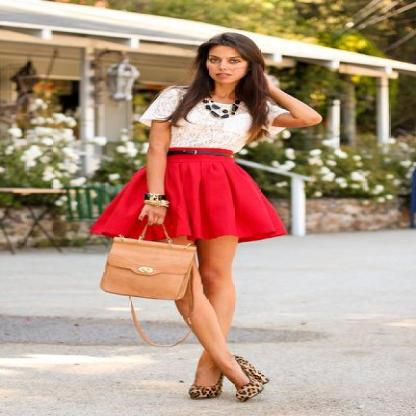bag: (100, 228, 202, 307)
jacket: (262, 108, 290, 137)
shirt: (137, 85, 251, 154)
shoe: (182, 359, 269, 400)
skirt: (89, 158, 284, 242)
